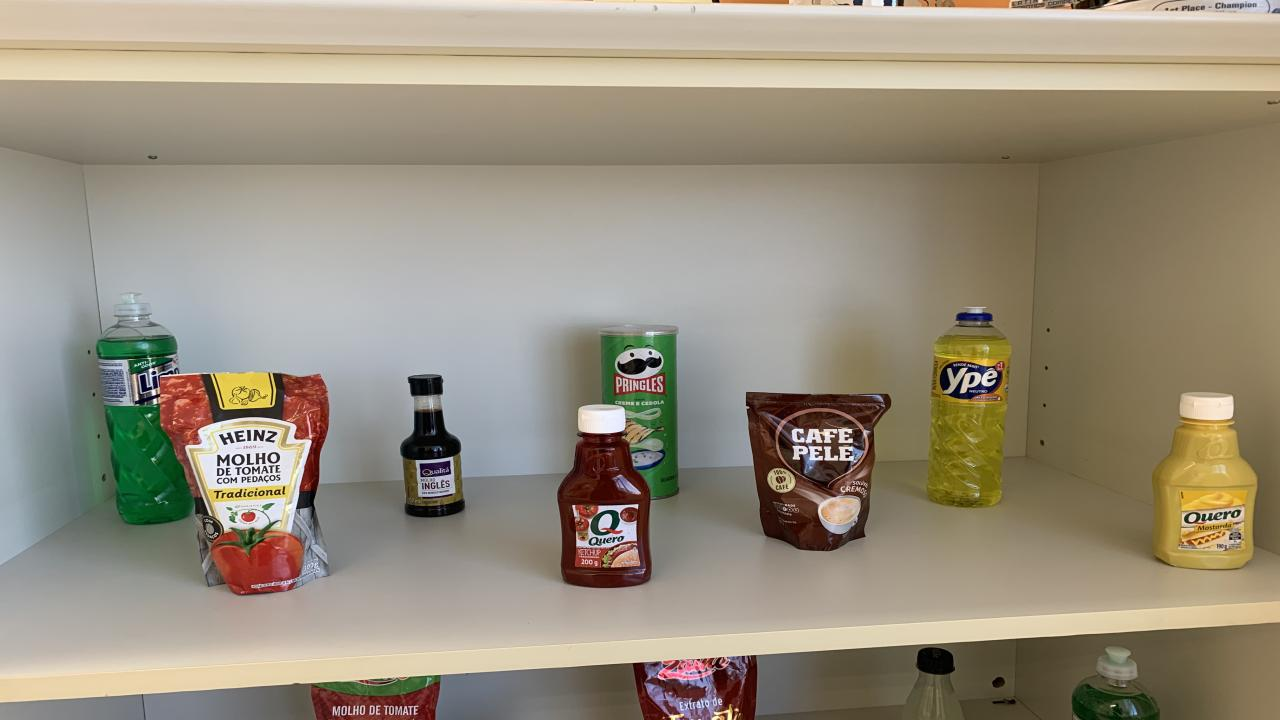Coffee-Pantry_Items: (743, 393, 889, 553)
Detergent-Cleanup_Items: (89, 293, 194, 529), (927, 308, 1023, 511), (1070, 649, 1166, 720)
English_Sauce-Pantry_Items: (396, 375, 465, 521)
Ketchup-Pantry_Items: (556, 405, 655, 592)
Mustard-Pantry_Items: (1153, 392, 1259, 574)
Pringles-Snacks: (599, 330, 683, 501)
Soda-Drinks: (900, 648, 969, 720)
Tomato_Sauce-Pantry_Items: (157, 372, 330, 598), (630, 660, 759, 720), (305, 678, 443, 720)
